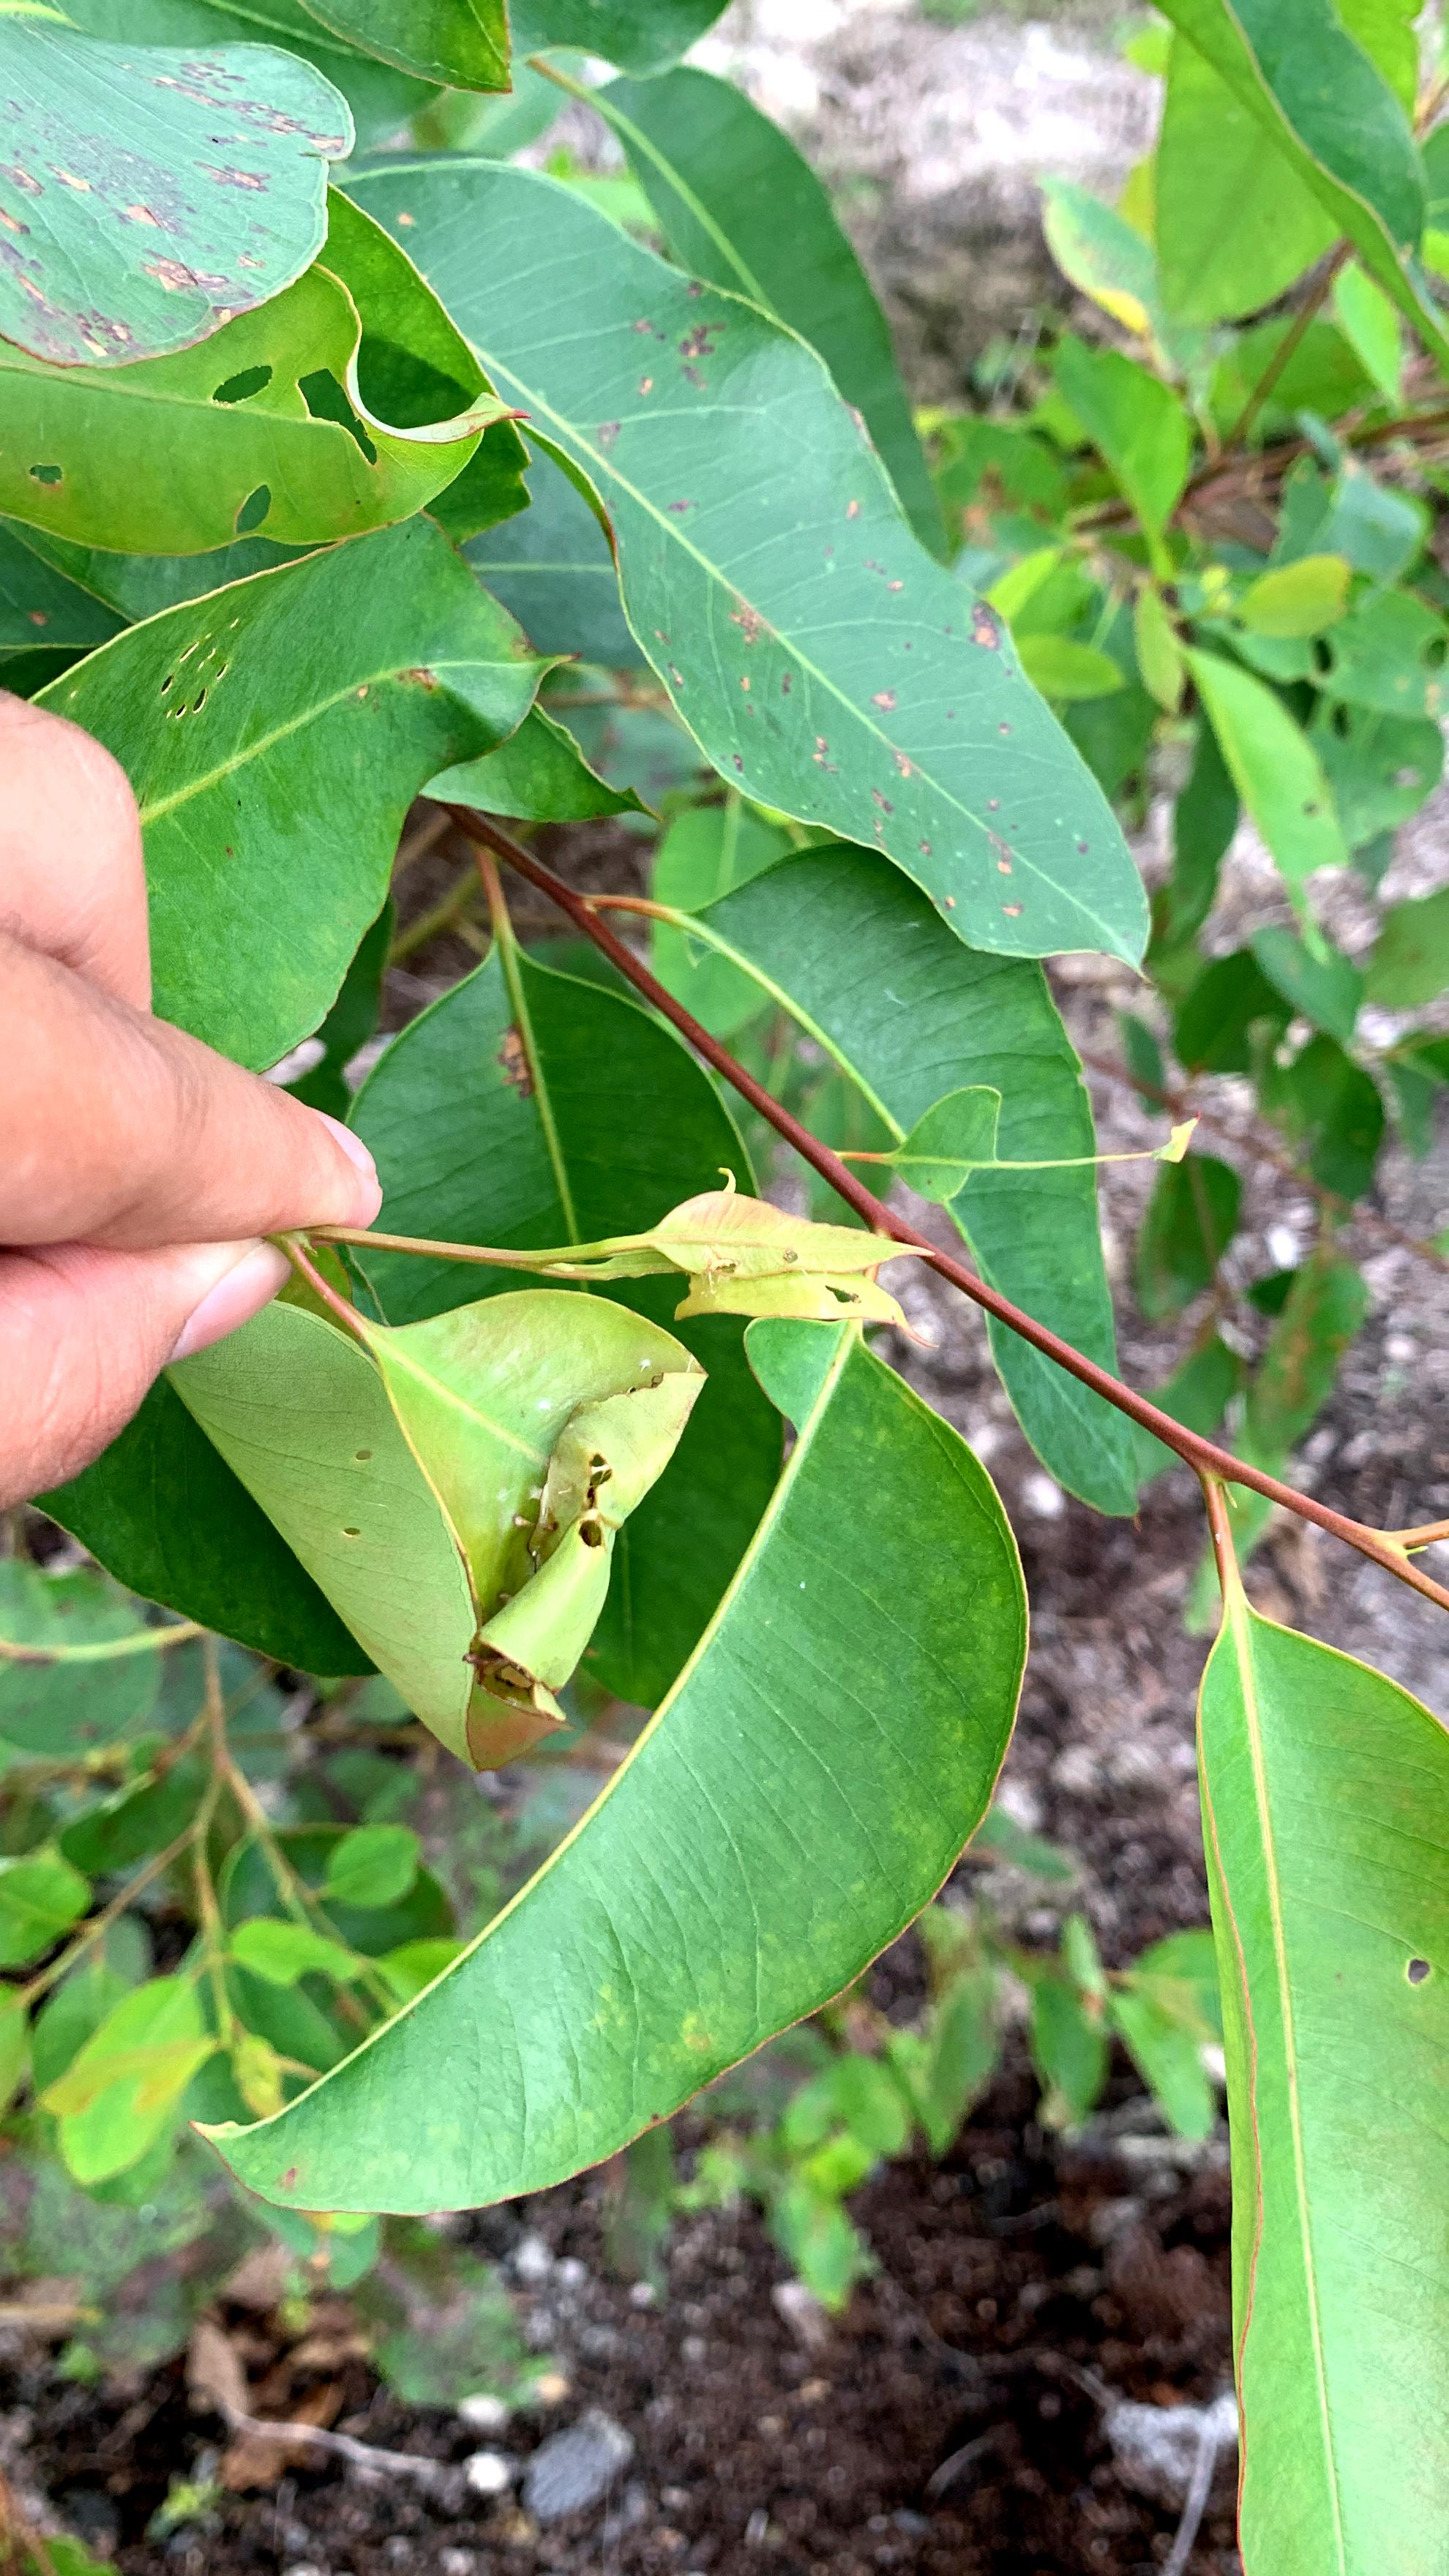Leaf Roller - Leaf: (308, 1238, 694, 1764)
